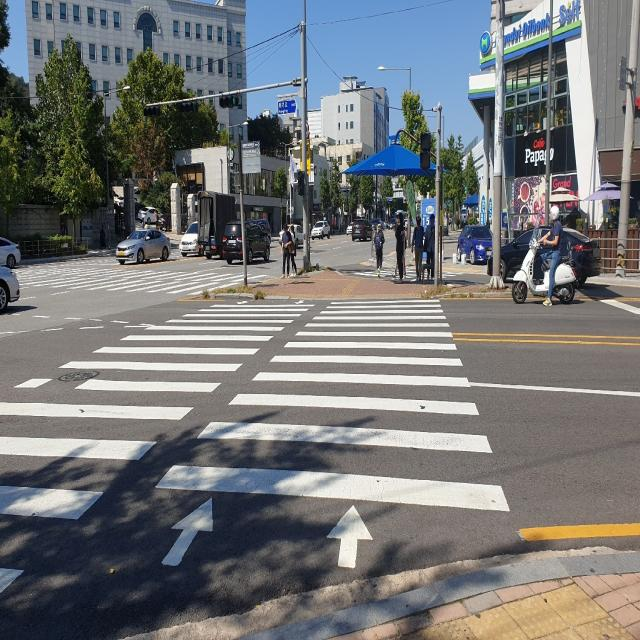횡단보도: (0, 295, 513, 599), (18, 272, 266, 286)
